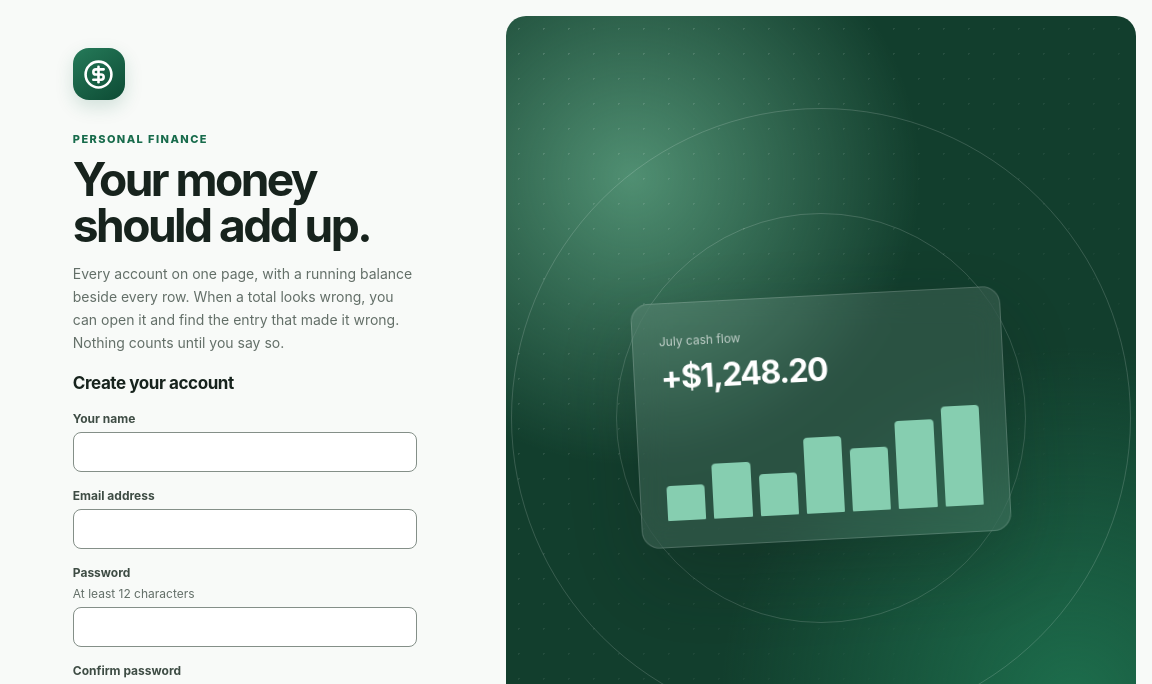
Test case: the sign-in screen, whose only button is replaced by its own answer › announces the confirmation panel after signing up, and lands focus on it
The width and height of the screenshot is (1152, 684).
Type "Tester" into the field labelled "Your name". click: [245, 452]
box: [73,432,417,472]
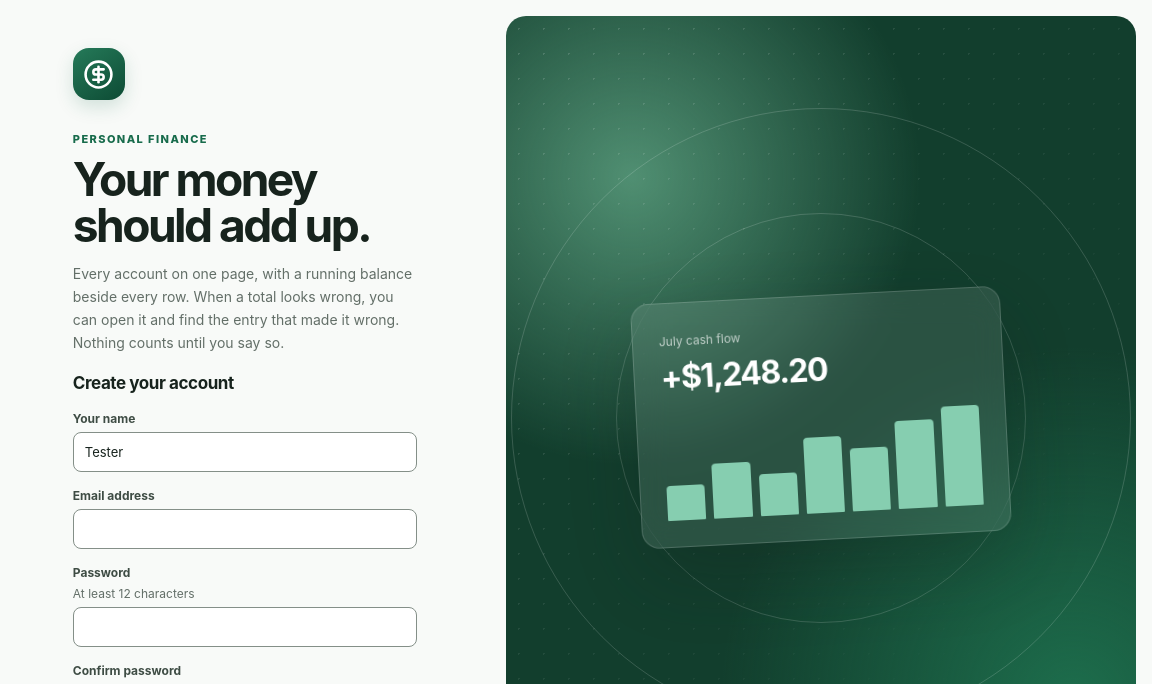
Type "tester@example.com" into the field labelled "Email address". click: [245, 528]
box: [73,508,417,548]
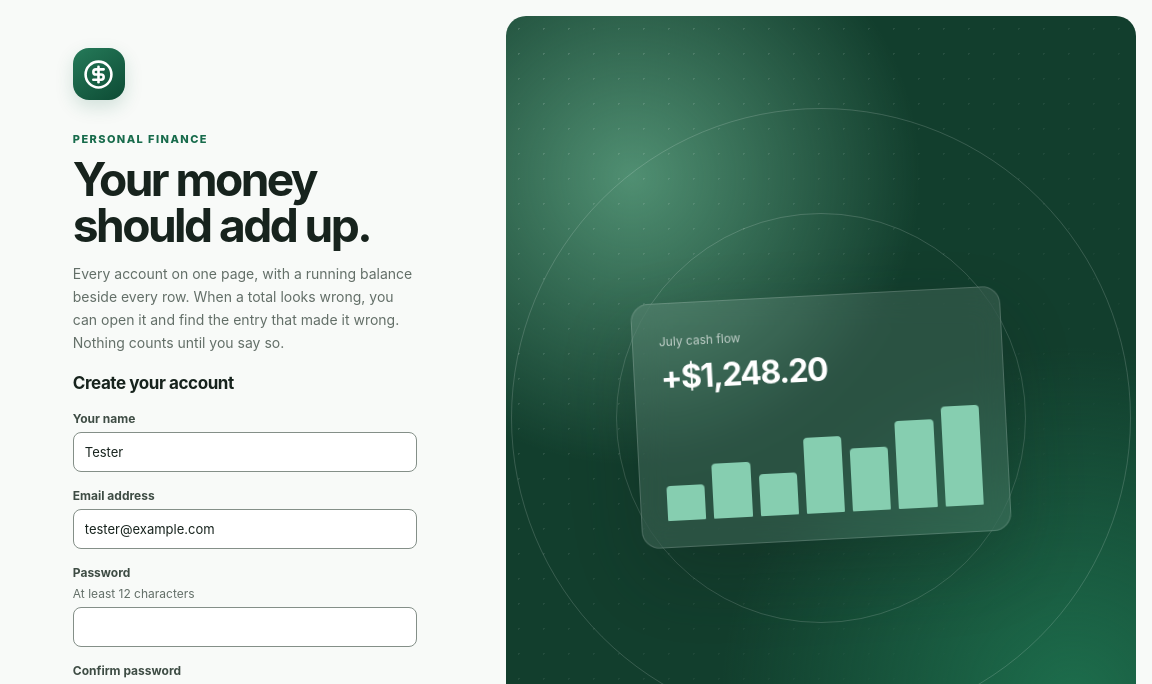
Type "a-long-enough-password" into the password field labelled "Password". click: [245, 626]
box: [73,606,417,646]
(page scrolled)
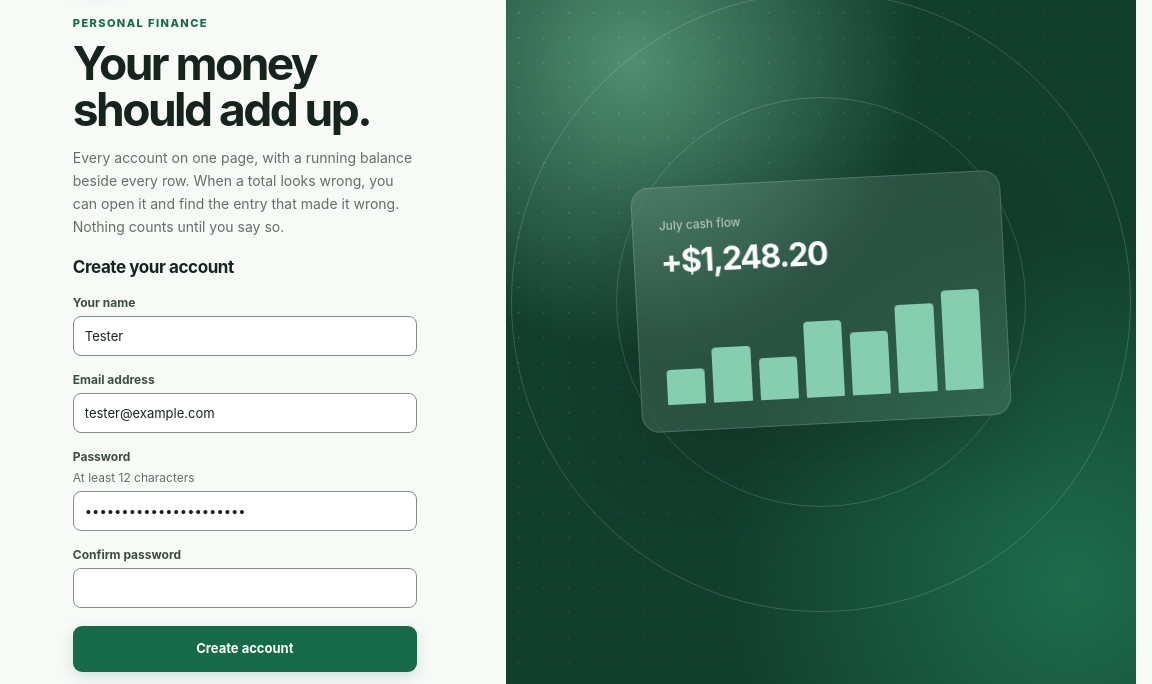
Type "a-long-enough-password" into the password field labelled "Confirm password". click: [245, 588]
box: [73,568,417,608]
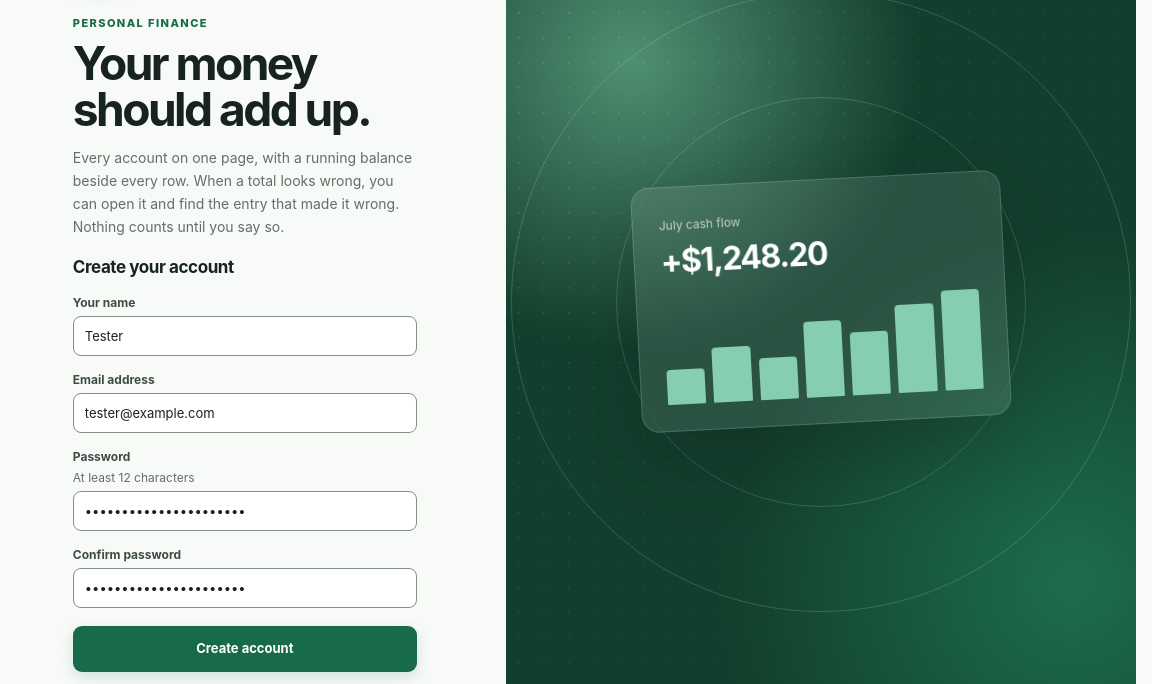
Submit the form named "Create account", box [73,256,417,672]
(page scrolled)
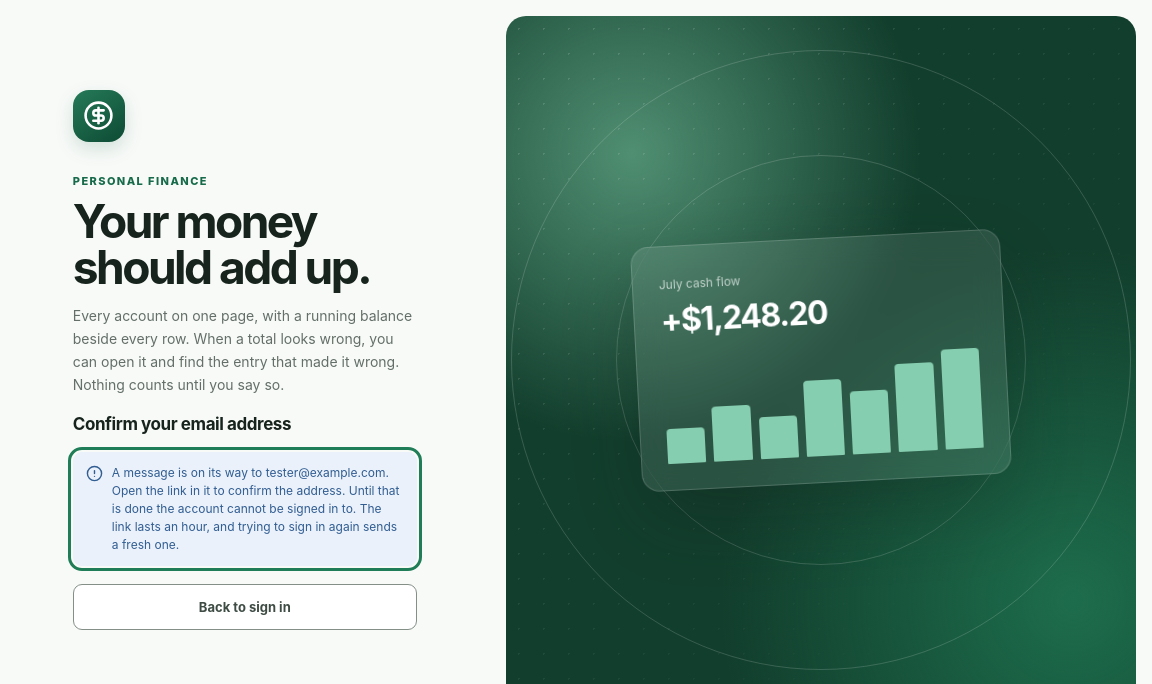
Expected: the text "A message is on its way to" shows "tester@example.com", [266,465,386,480]
Expected: the text "A message is on its way to" is shown, [112,465,266,480]
